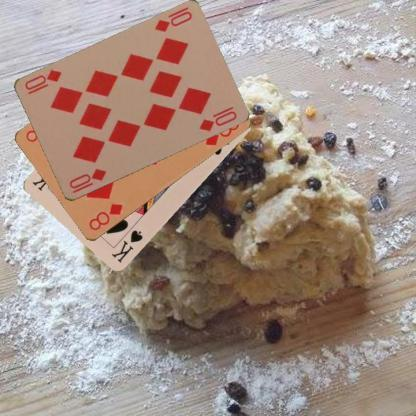10d: (150, 5, 193, 34), (66, 166, 108, 195)
8d: (84, 201, 126, 232)
Ks: (108, 228, 144, 264)
